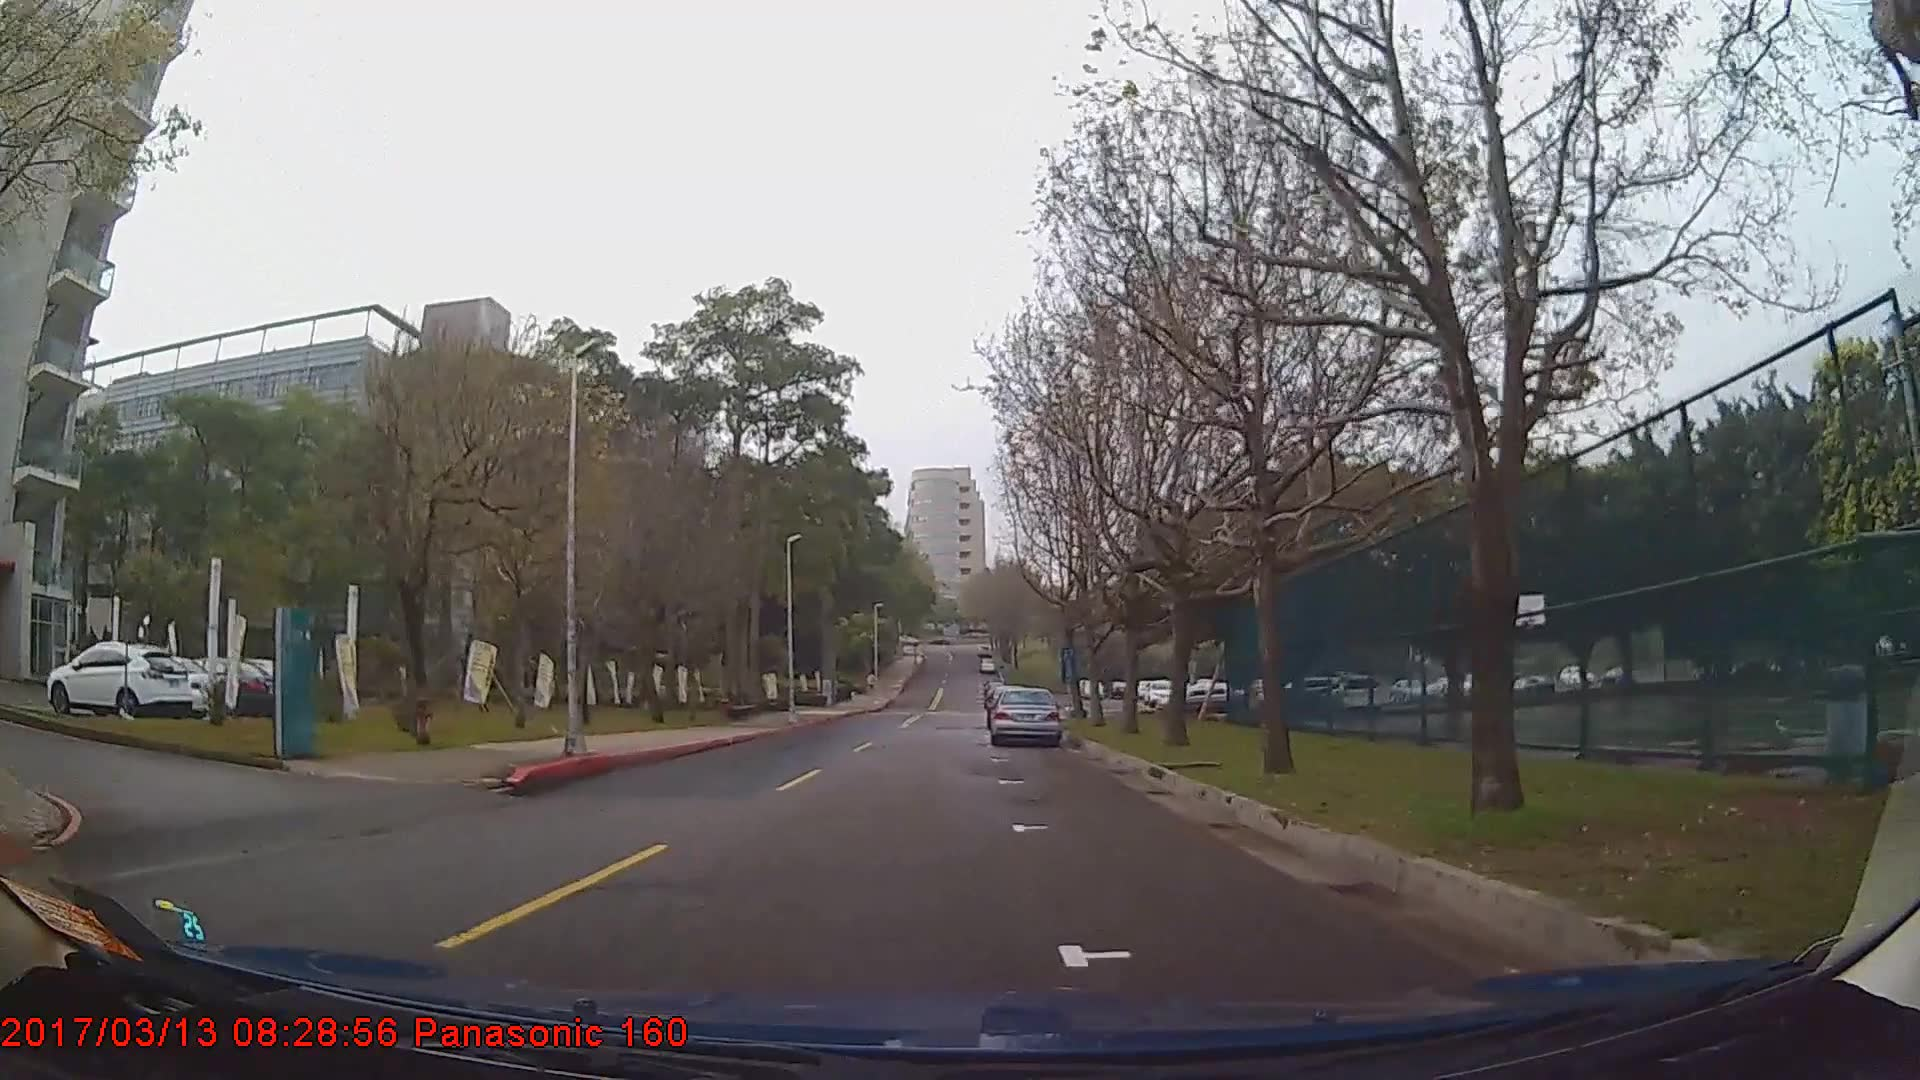vehicle: (45, 640, 193, 717), (98, 649, 225, 709), (990, 686, 1062, 746)
